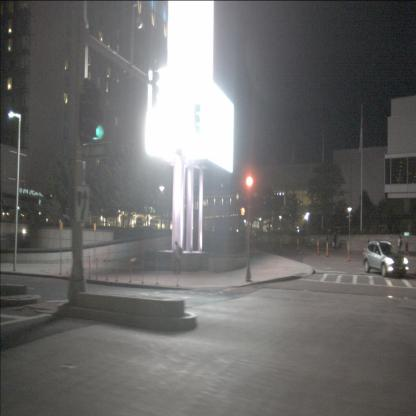cone: (347, 240, 351, 262), (325, 236, 329, 257), (296, 236, 300, 252), (317, 236, 320, 256), (272, 236, 275, 248), (280, 237, 282, 250)
